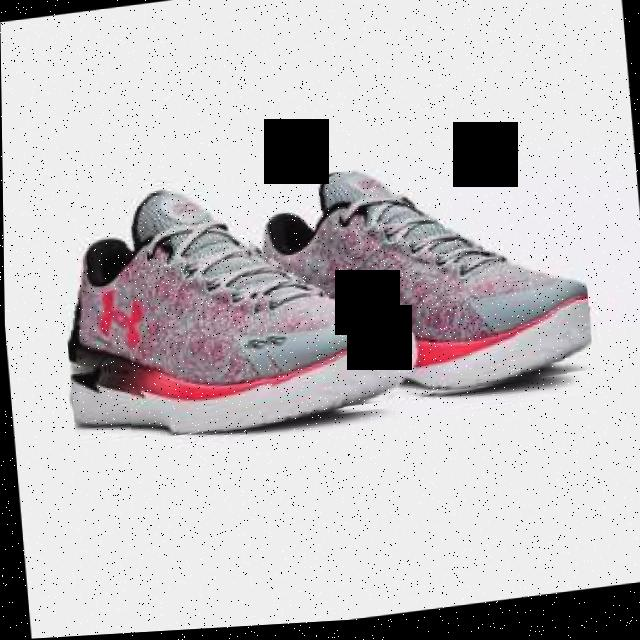shoe: (55, 166, 406, 450), (238, 148, 593, 423)
